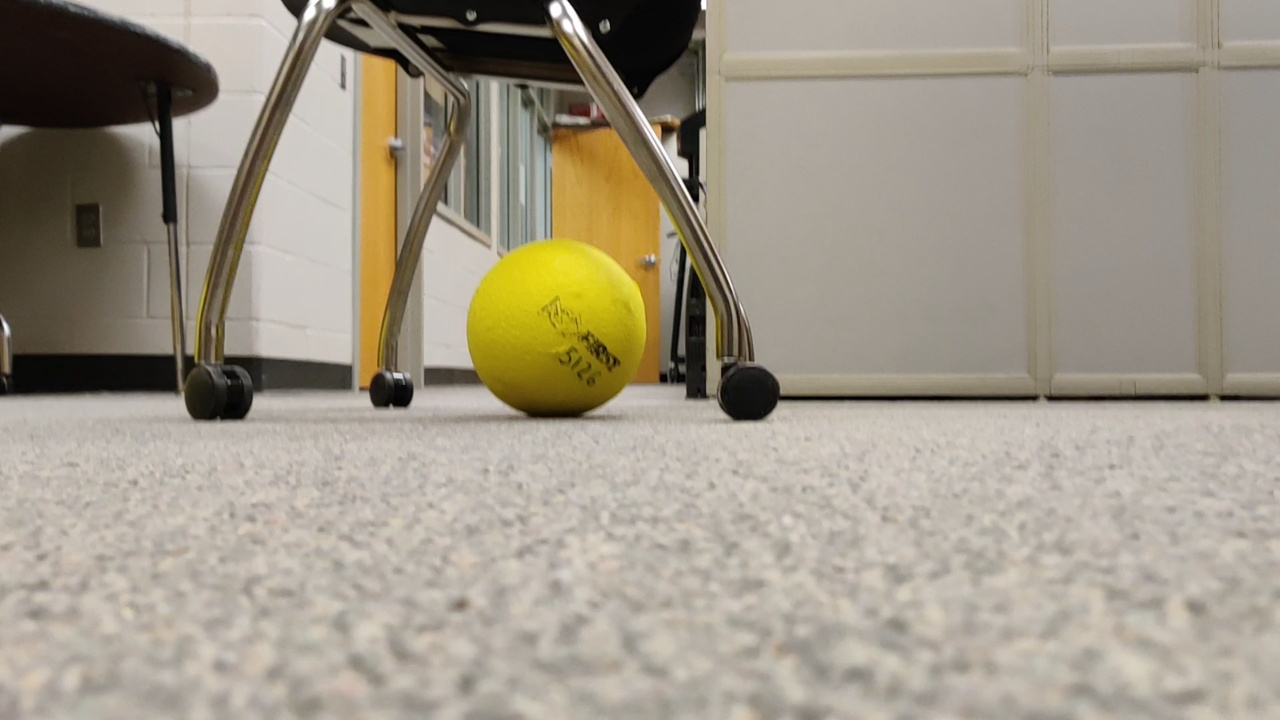Ball: (467, 237, 652, 422)
